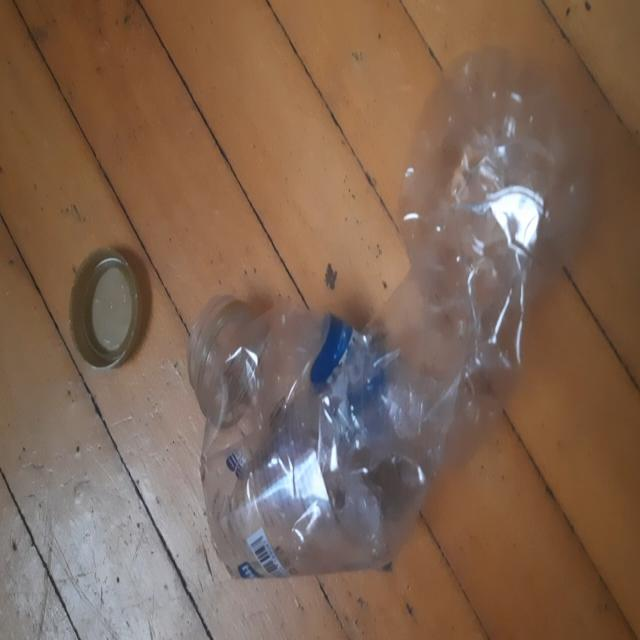Plastic: (193, 44, 591, 580), (256, 319, 392, 575), (68, 248, 152, 374)
